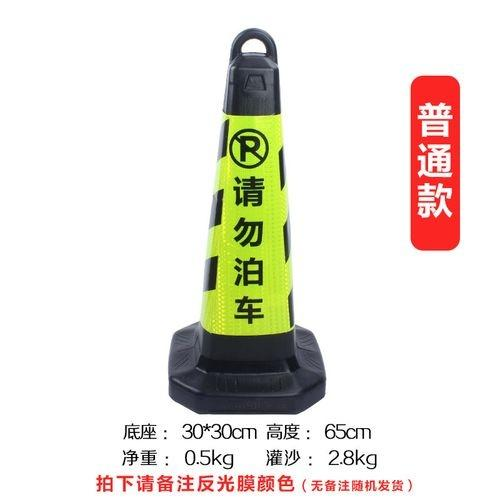cone_barrel: (161, 29, 321, 410)
